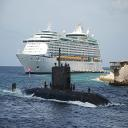submarine: (12, 66, 115, 107)
